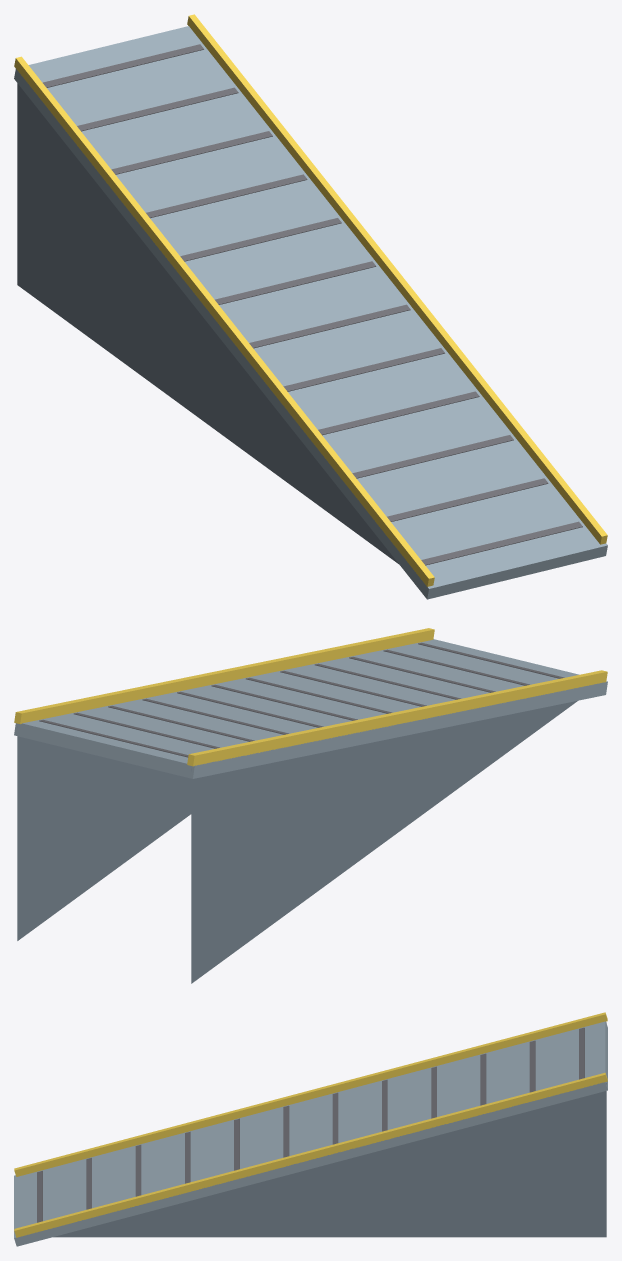
File: WH_Ramp.fbx
3 views of the same model, one above another, from view 1: azimuth 30°, elevation 25°; view 2: azimuth 150°, elevation 25°; view 3: azimuth 270°, elevation 25° (orthographic). The views are drawn at different scales.
Visible parts, largest first — view 1: WH_Ramp; view 2: WH_Ramp; view 3: WH_Ramp.
Part boxes in pixels (<box>): WH_Ramp: <box>14,14,607,599</box>; WH_Ramp: <box>14,628,607,983</box>; WH_Ramp: <box>14,1012,607,1246</box>.
Size of the model in its own units: 3 by 3.85 by 12.06.
